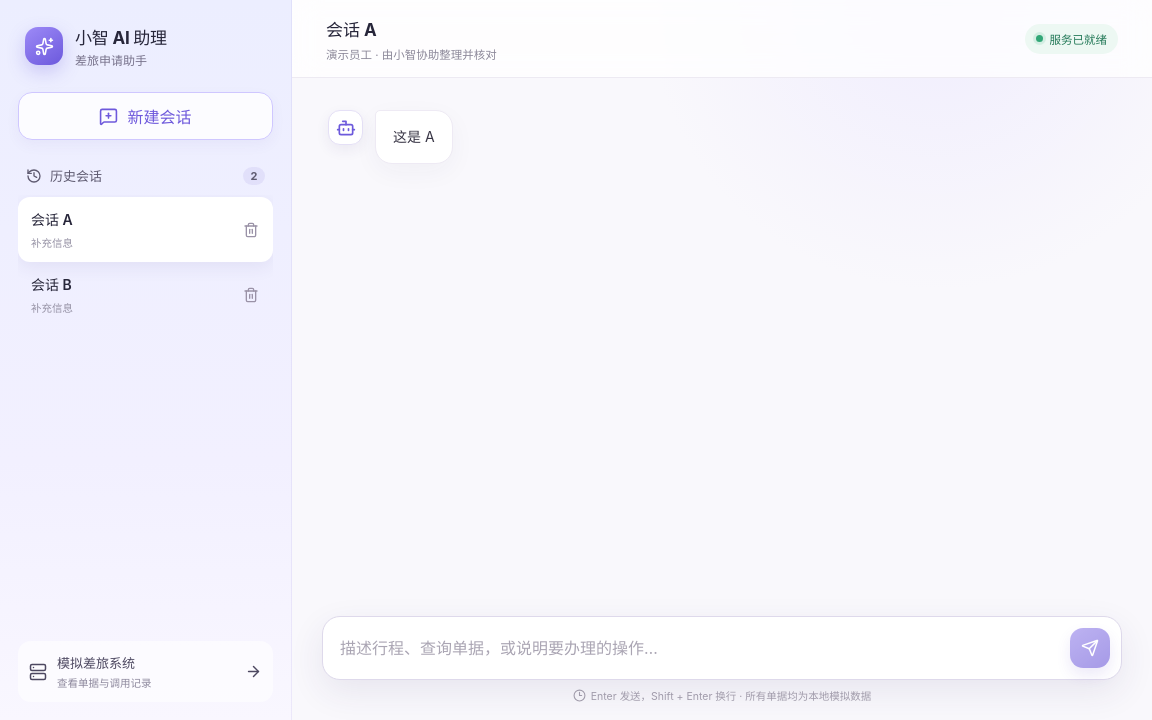
删除历史会话 › 删除当前会话后切到另一会话、清空原输入并恢复键盘焦点
Check: the text "这是 A" is shown, box [393, 125, 435, 149]
Type "属于 A 的输入" into the text box named "发送给小智的消息" at (700, 649), box [340, 629, 1060, 668]
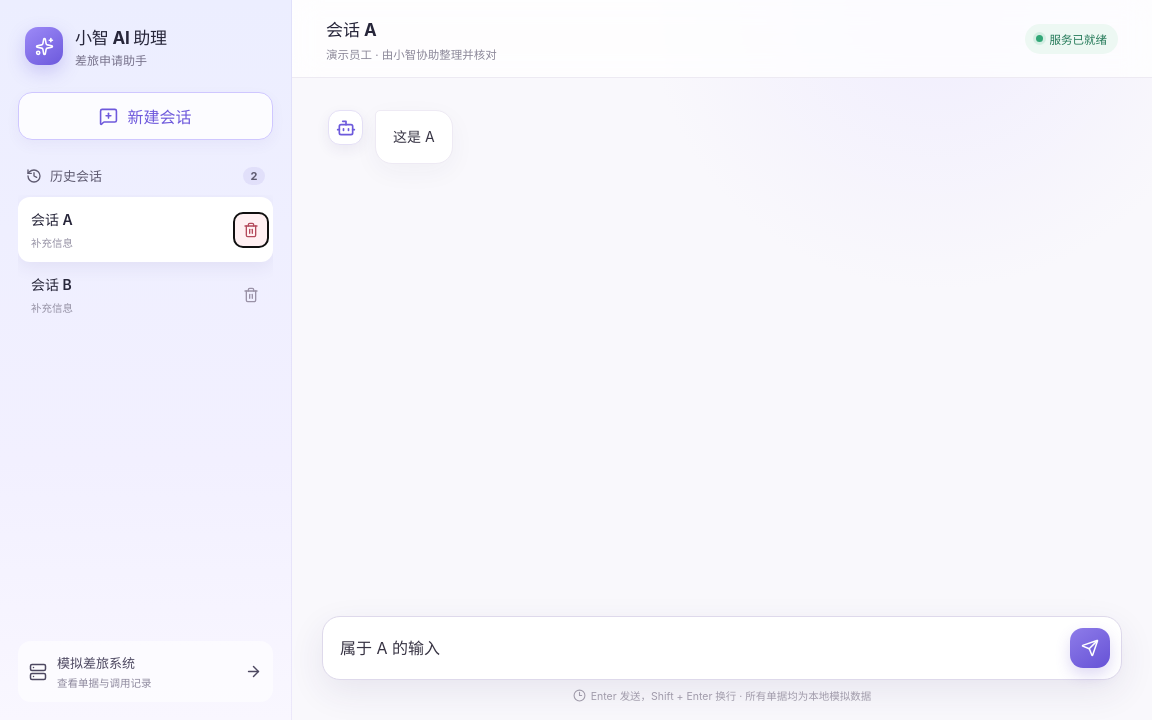
Click the button named "删除会话：会话 A" at (251, 230), box [234, 212, 268, 246]
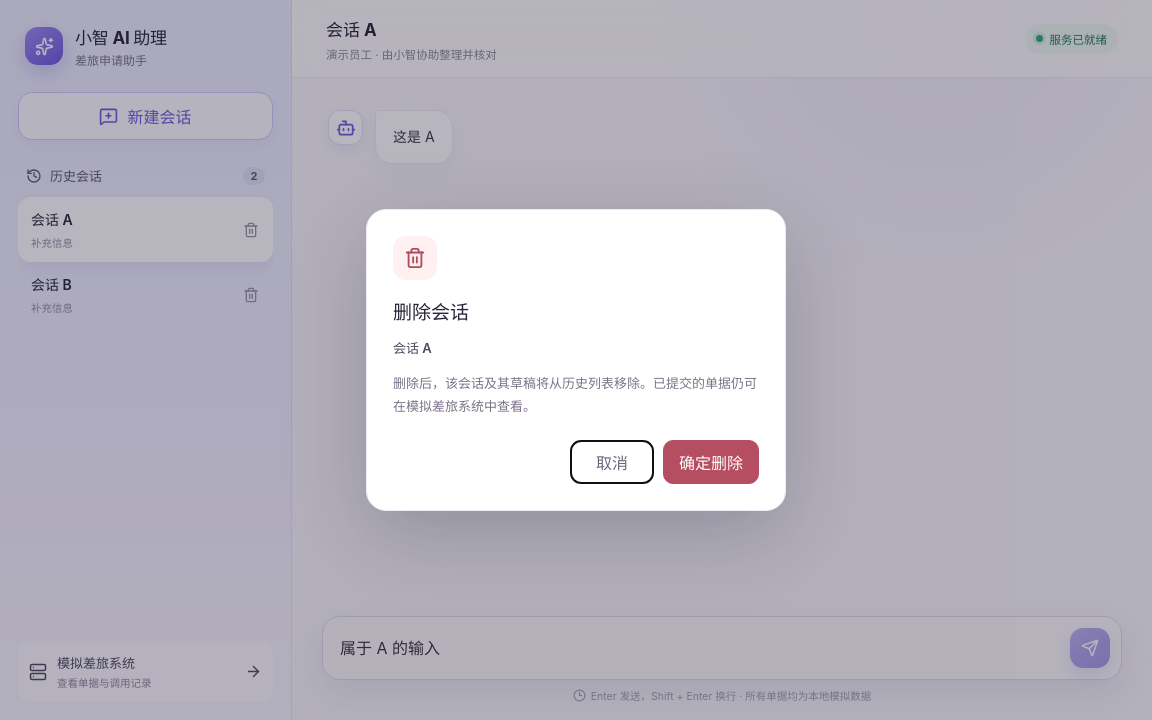
Click the button "确定删除" at (711, 462), box [663, 440, 759, 484]
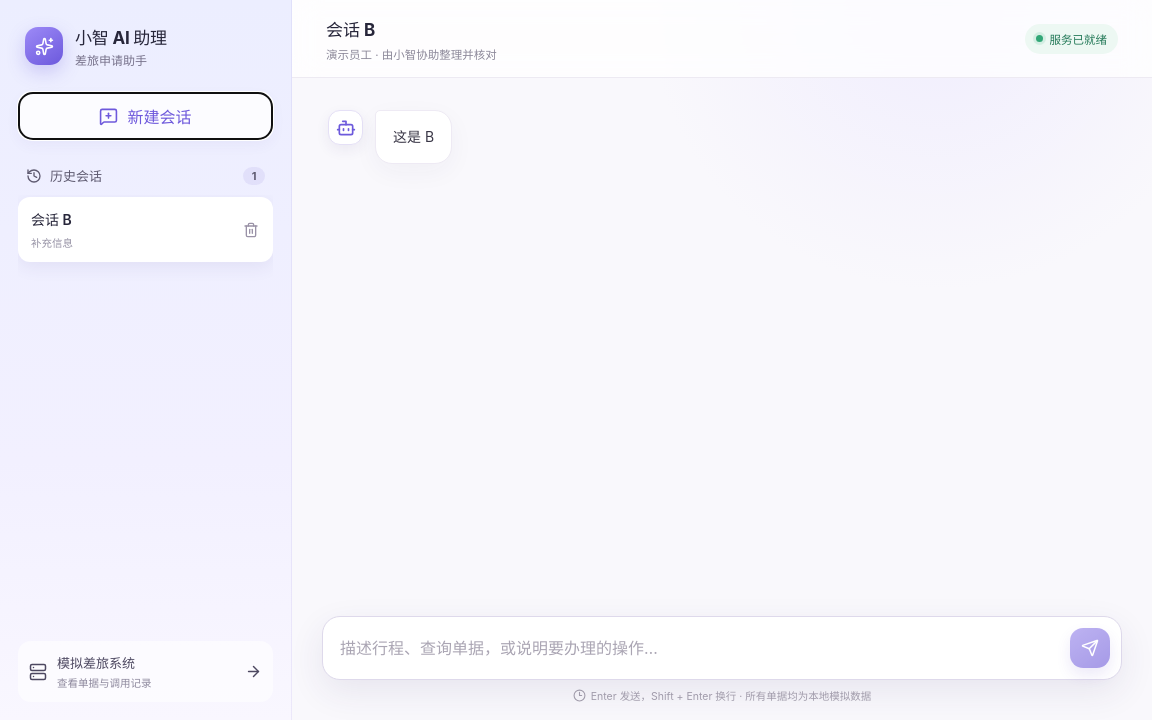
Check: the text "这是 B" is shown, box [393, 125, 434, 149]
Check: the text box named "发送给小智的消息" is empty, box [340, 629, 1060, 668]
